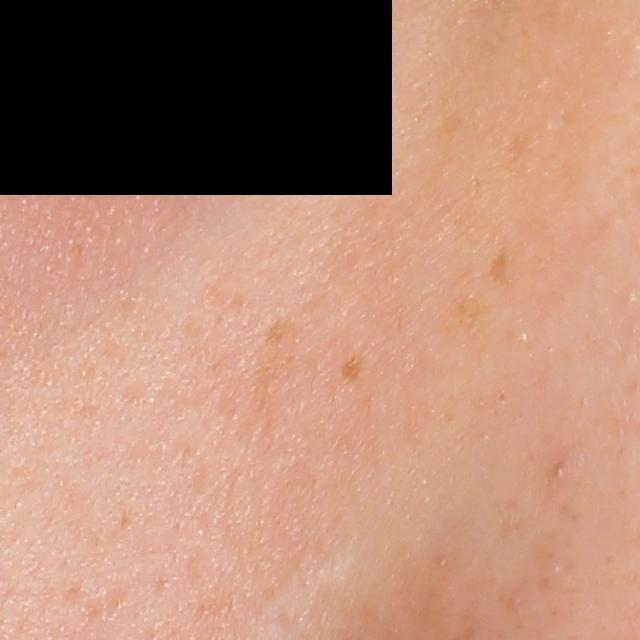comedo: (547, 460, 568, 483)
melasma: (258, 311, 296, 348), (484, 245, 512, 288), (336, 352, 363, 384), (507, 126, 530, 163)
